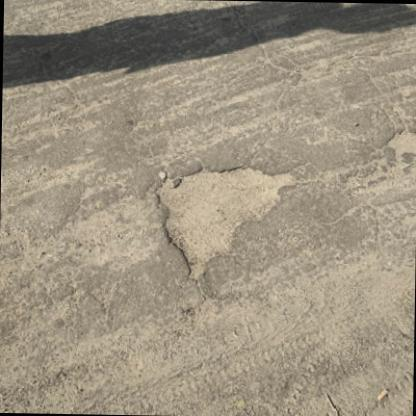pothole: (146, 160, 298, 281), (363, 120, 416, 193)
